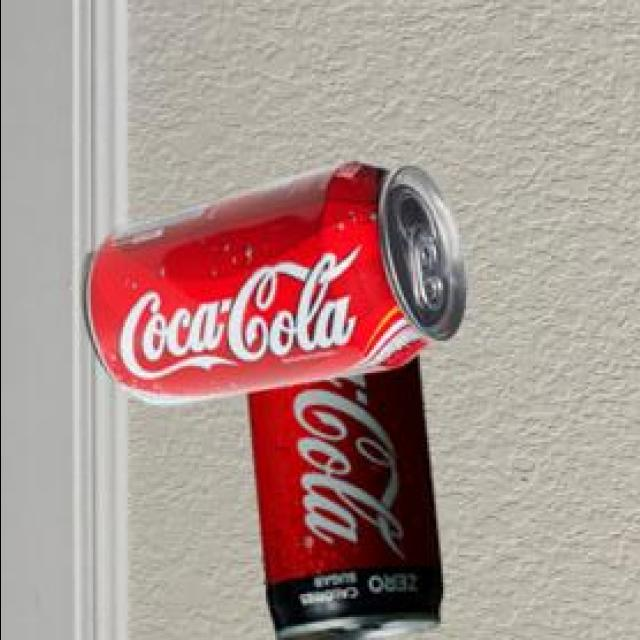logam: (84, 158, 468, 402), (252, 352, 445, 640)
